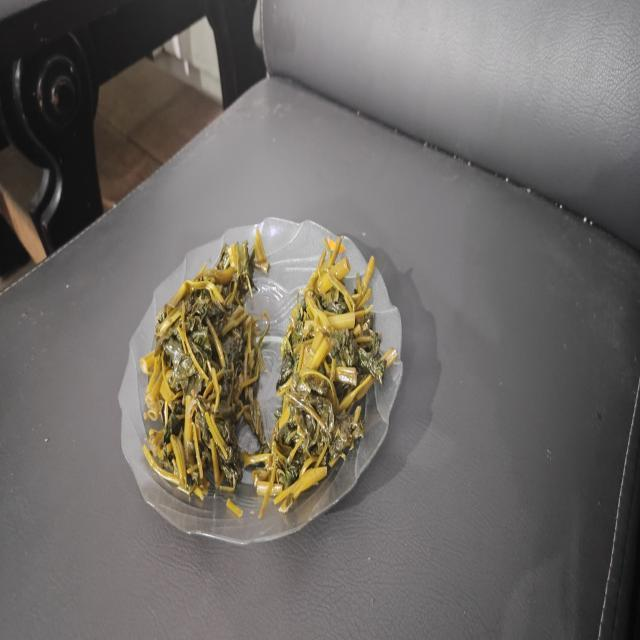tumis_kangkung: (252, 237, 402, 519), (143, 232, 270, 498)
